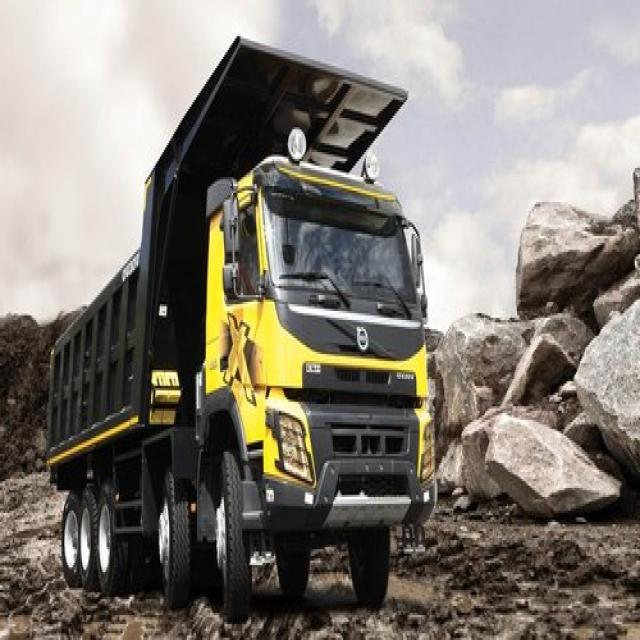truck: (48, 42, 439, 619)
